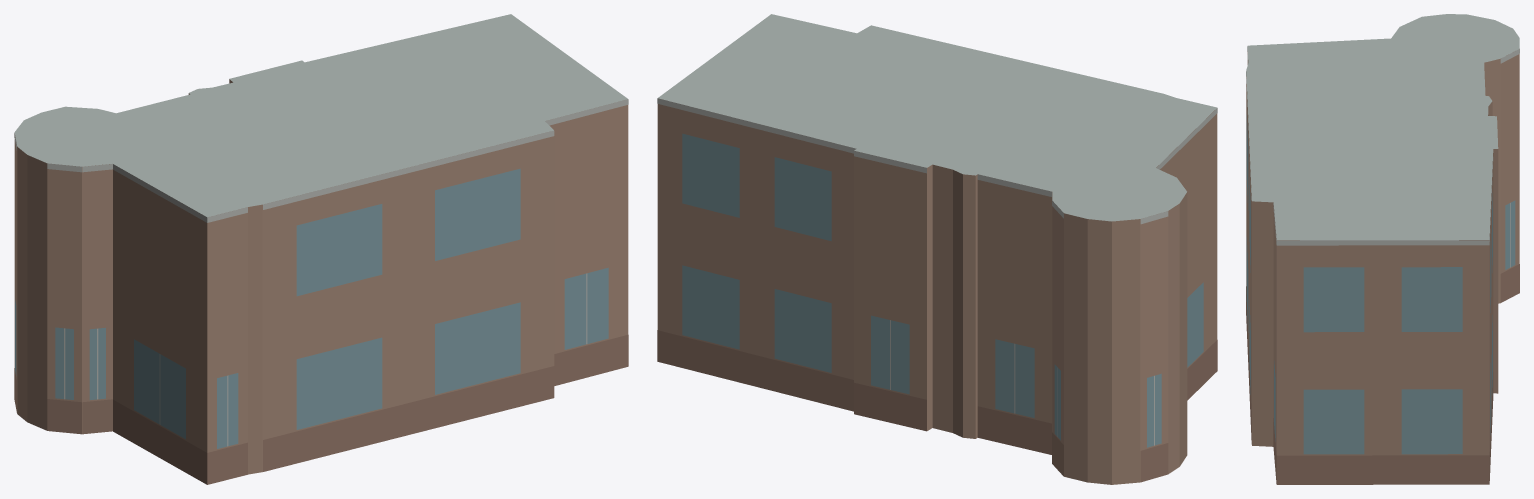
The model's file is survey-upis-32680436.glb.
3 renders of one model, left to right at view 1: azimuth 30°, elevation 25°; view 2: azimuth 150°, elevation 25°; view 3: azimuth 270°, elevation 25°, orthographic. The views are drawn at different scales.
Parts seen in each view (by area): view 1: survey-upis-32680436.tmp; view 2: survey-upis-32680436.tmp; view 3: survey-upis-32680436.tmp.
Part boxes in pixels (<box>): survey-upis-32680436.tmp: <box>14,14,628,484</box>; survey-upis-32680436.tmp: <box>657,14,1217,484</box>; survey-upis-32680436.tmp: <box>1246,14,1519,484</box>.
Size of the model in its own units: 23.01 by 11.58 by 11.75.
